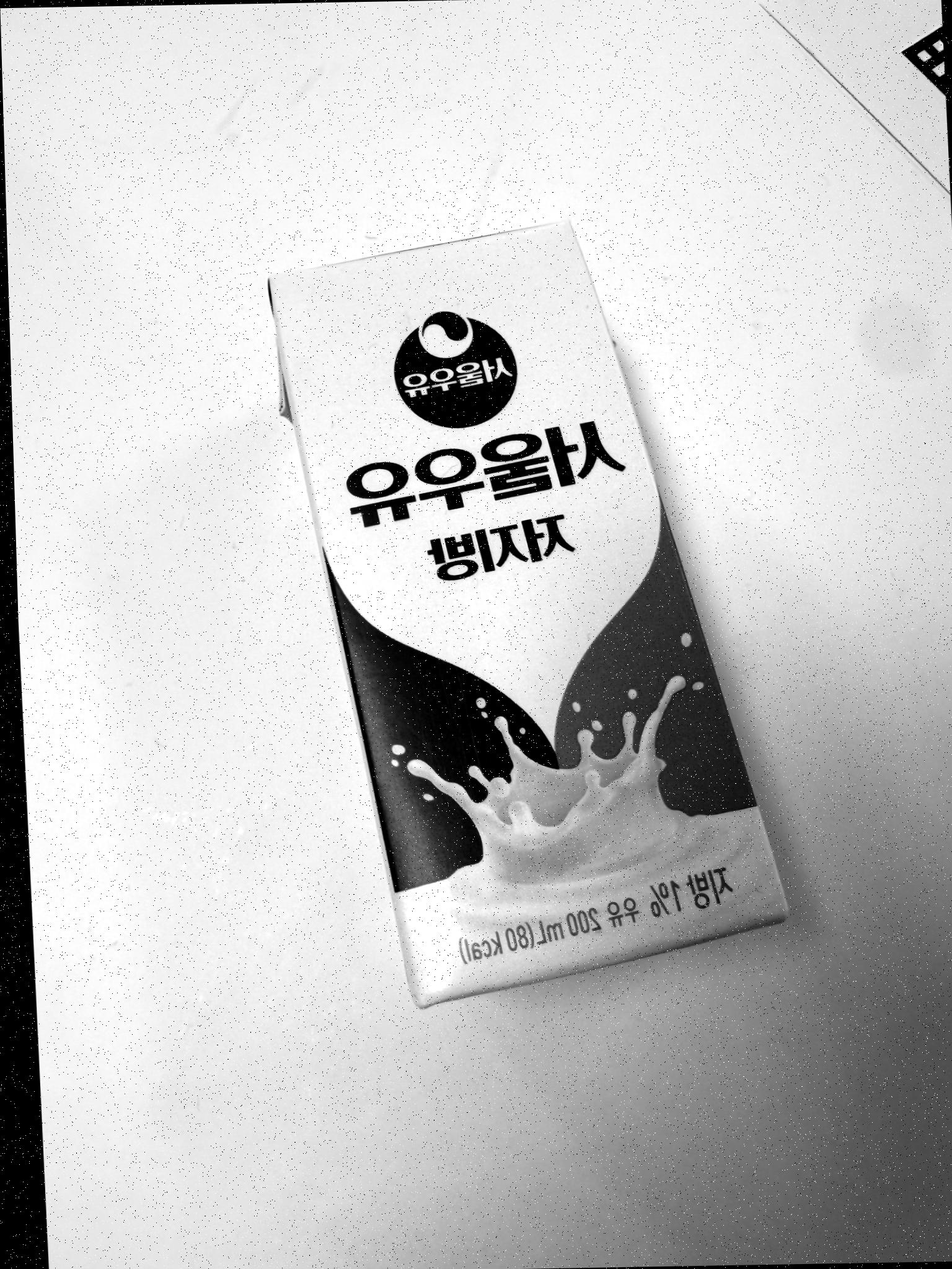milk_blue: (271, 226, 786, 1006)
